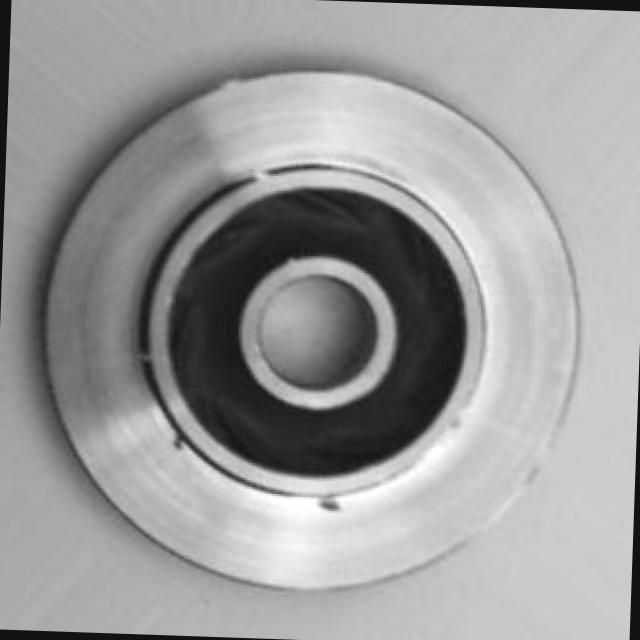Defect: (314, 488, 344, 514)
